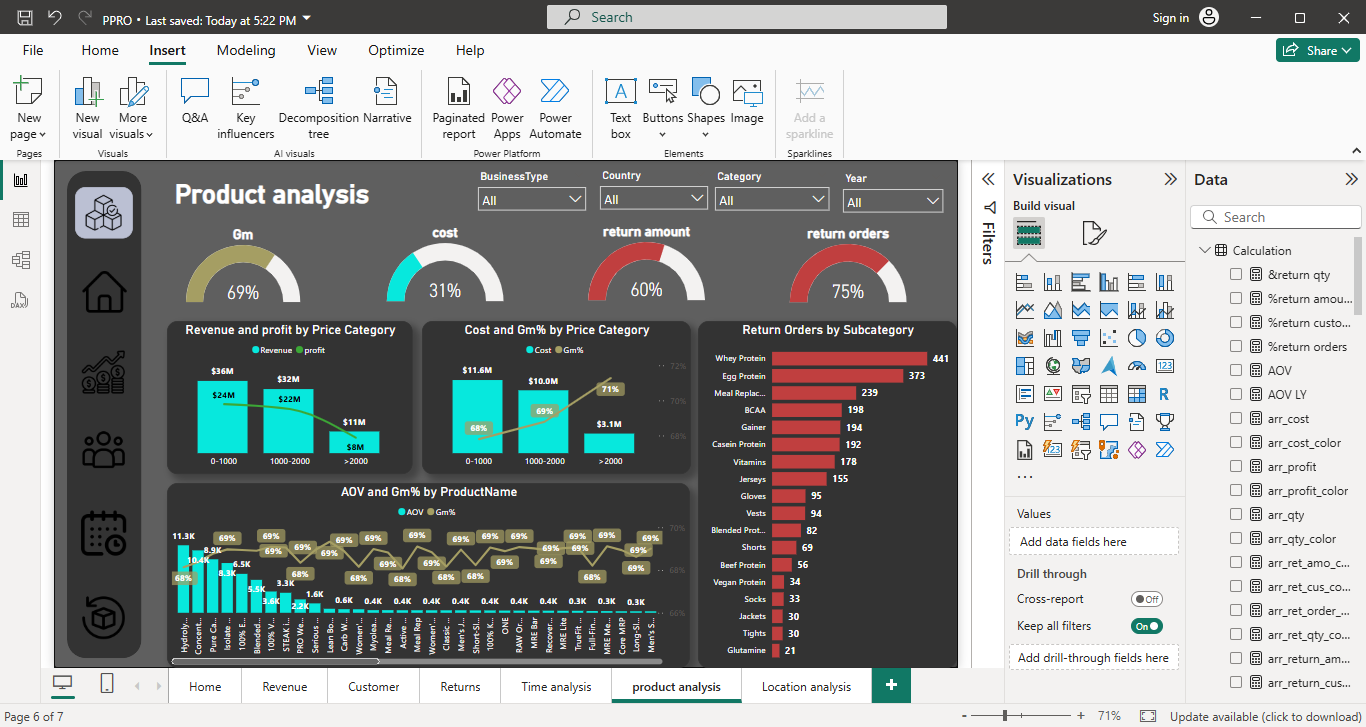

The page's visual inventory and layout, read from the dashboard file:
{"tool":"powerbi","page":{"name":"product analysis","canvas":[1280,720],"ordinal":5},"visuals":[{"type":"lineStackedColumnComboChart","fields":{"Y":["Calculation.Revenue"],"Y2":["Calculation.profit"],"Category":["SalesDetails.Price Category"]},"box":[160.7,227.7,348.3,217.3],"z":0},{"type":"lineStackedColumnComboChart","fields":{"Category":["SalesDetails.Price Category"],"Y":["Calculation.Cost"],"Y2":["Calculation.Gm%"]},"box":[520.9,227.7,381,217.3],"z":1000},{"type":"lineStackedColumnComboChart","fields":{"Category":["Product.ProductName"],"Y":["Calculation.AOV"],"Y2":["Calculation.Gm%"]},"box":[160.7,458.4,741.2,262],"z":2000},{"type":"barChart","fields":{"Y":["Calculation.Return Orders"],"Category":["Product.SubcategoryName"]},"box":[912.8,228.2,367.1,491.8],"z":3000},{"type":"gauge","title":"cost","fields":{"Y":["Calculation.cost%"]},"box":[447,90.8,215.8,114.6],"z":4000},{"type":"gauge","title":"Gm","fields":{"Y":["Calculation.Gm%"]},"box":[160.7,93.8,215.8,113.1],"z":5000},{"type":"gauge","title":"return amount","fields":{"Y":["Calculation.%return amouny"]},"box":[733.3,89.3,214.3,114.6],"z":6000},{"type":"gauge","title":"return orders","fields":{"Y":["Calculation.%return orders"]},"box":[1018,92.3,215.8,114.6],"z":7000},{"type":"cardVisual","fields":{"Data":["Calculation.pro anal"]},"box":[154.8,1.5,312.6,84.8],"z":8000},{"type":"shape","box":[17.9,14.9,105.7,690.6],"z":15000},{"type":"image","box":[31.3,150.3,81.9,72.9],"z":16000},{"type":"image","box":[28.3,264.9,83.3,71.4],"z":17000},{"type":"image","box":[29.8,38.7,81.9,72.9],"z":18000},{"type":"image","box":[28.3,491.2,83.3,74.4],"z":19000},{"type":"image","box":[29.8,611.7,81.9,72.9],"z":20000},{"type":"image","box":[28.3,375.1,83.3,70],"z":21000},{"type":"slicer","fields":{"Values":["Product.CategoryName"]},"box":[927.3,8.9,181.6,67],"z":22000},{"type":"slicer","fields":{"Values":["Calendar.Year"]},"box":[1108.8,11.9,162.2,67],"z":23000},{"type":"slicer","fields":{"Values":["Customer.CountryName"]},"box":[763.5,7.4,172.7,68.5],"z":24000},{"type":"slicer","fields":{"Values":["Customer.BusinessType"]},"box":[590.9,8.9,172.7,68.5],"z":25000}]}

Visuals, with their boxes on the page's 1280x720 design canvas (x1, y1, x2, y2). These are canvas units, not pixel positions in the 1366x727 screenshot, which may show the page scaled, cropped or inside an application window:
lineStackedColumnComboChart - Calculation.Revenue x Calculation.profit: bbox=(161, 228, 509, 445)
lineStackedColumnComboChart - SalesDetails.Price Category x Calculation.Cost: bbox=(521, 228, 902, 445)
lineStackedColumnComboChart - Product.ProductName x Calculation.AOV: bbox=(161, 458, 902, 720)
barChart - Calculation.Return Orders x Product.SubcategoryName: bbox=(913, 228, 1280, 720)
"cost" gauge: bbox=(447, 91, 663, 205)
"Gm" gauge: bbox=(161, 94, 376, 207)
"return amount" gauge: bbox=(733, 89, 948, 204)
"return orders" gauge: bbox=(1018, 92, 1234, 207)
cardVisual - Calculation.pro anal: bbox=(155, 2, 467, 86)
shape: bbox=(18, 15, 124, 706)
image: bbox=(31, 150, 113, 223)
image: bbox=(28, 265, 112, 336)
image: bbox=(30, 39, 112, 112)
image: bbox=(28, 491, 112, 566)
image: bbox=(30, 612, 112, 685)
image: bbox=(28, 375, 112, 445)
slicer - Product.CategoryName: bbox=(927, 9, 1109, 76)
slicer - Calendar.Year: bbox=(1109, 12, 1271, 79)
slicer - Customer.CountryName: bbox=(764, 7, 936, 76)
slicer - Customer.BusinessType: bbox=(591, 9, 764, 77)
